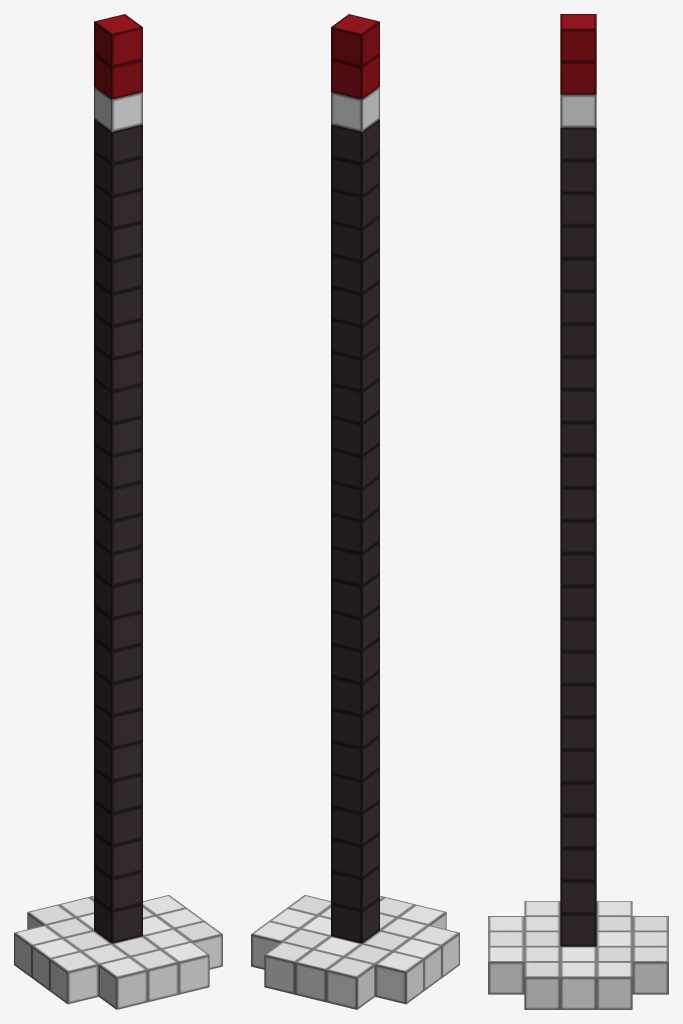
The model's file is mic_stand.glb.
3 renders of one model, left to right at view 1: azimuth 30°, elevation 25°; view 2: azimuth 150°, elevation 25°; view 3: azimuth 270°, elevation 25°, orthographic.
Parts seen in each view (by area): view 1: mic_stand; view 2: mic_stand; view 3: mic_stand.
Boxes of the visible parts, x1,y1,x2,y2 form: mic_stand: (14,14,222,1009); mic_stand: (251,14,459,1009); mic_stand: (488,14,668,1009).
Bounding box in the file's own units: 0.25 × 1.45 × 0.25.
Materials: 3 (3 with a texture image).
